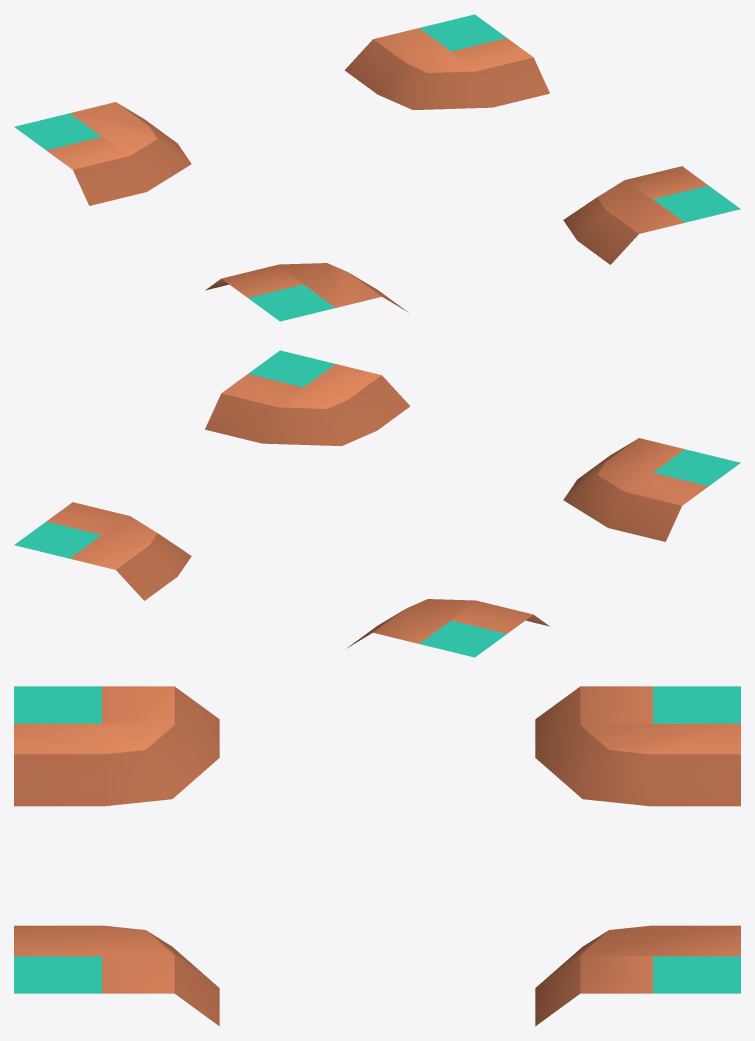
File: beach4way.obj
The picture shows the model from 3 angles, top to bottom: view 1: azimuth 30°, elevation 25°; view 2: azimuth 150°, elevation 25°; view 3: azimuth 270°, elevation 25°; orthographic projection. The views are drawn at different scales.
Visible parts, largest first — view 1: ground_riverCross.001; view 2: ground_riverCross.001; view 3: ground_riverCross.001.
Part boxes in pixels (x1,y1,x2,y2): ground_riverCross.001: [14, 14, 740, 321]; ground_riverCross.001: [14, 350, 740, 657]; ground_riverCross.001: [14, 686, 740, 1026].
Size of the model in its own units: 1 by 0.05 by 1.
